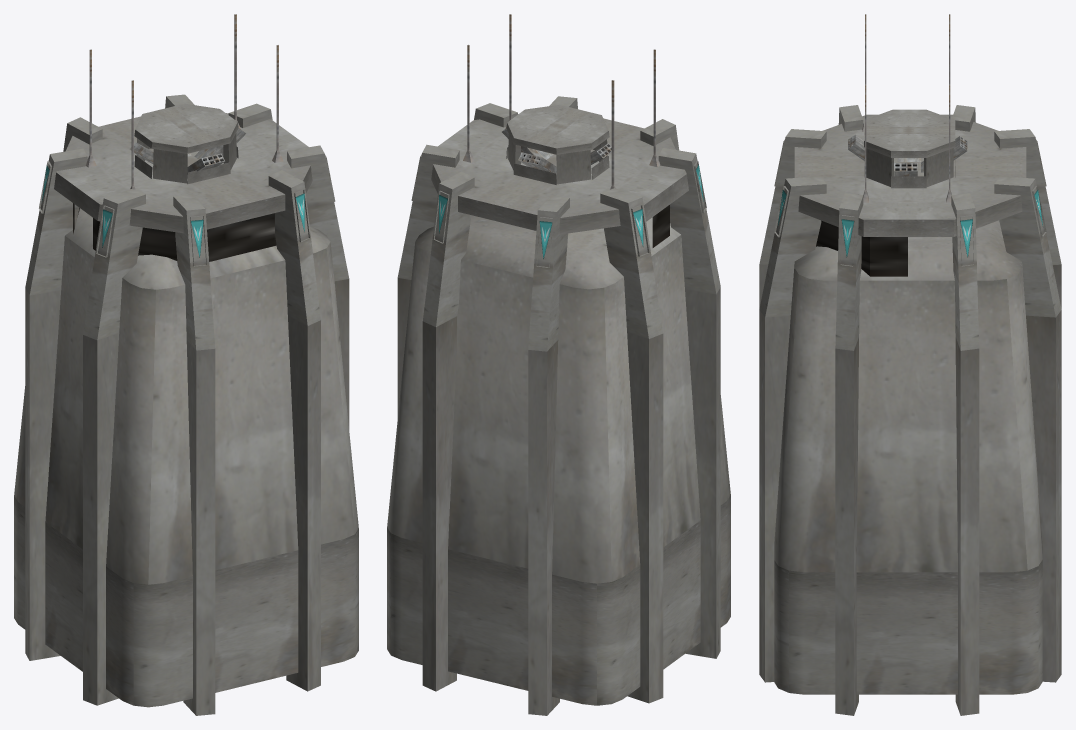
File: wall_tower.dae
3 views of the same model, side by side, from view 1: azimuth 30°, elevation 25°; view 2: azimuth 150°, elevation 25°; view 3: azimuth 270°, elevation 25° (orthographic).
Parts seen in each view (by area): view 1: wall_tower; view 2: wall_tower; view 3: wall_tower.
Boxes of the visible parts, x1,y1,x2,y2 form: wall_tower: [14, 14, 358, 715]; wall_tower: [387, 14, 730, 715]; wall_tower: [759, 14, 1061, 715].
Size of the model in its own units: 12.65 by 12.65 by 27.76.
